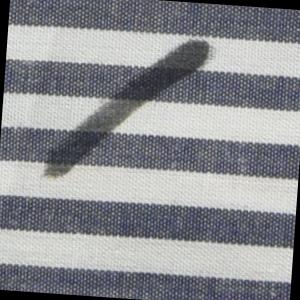Stain: (40, 25, 218, 195)
